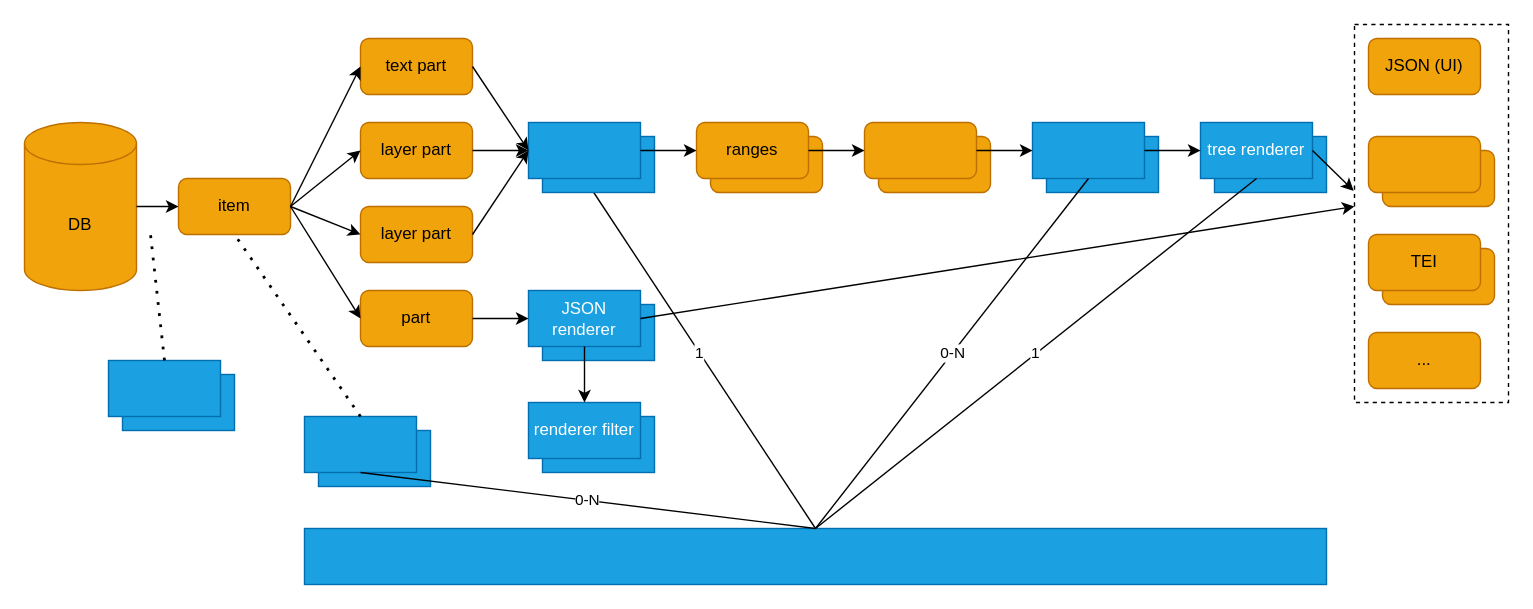
The diagram is 1533 pixels wide and 609 high, and some of its shapes have lost their labels. The shapes that lost their labels are listed below. From the top down, each one's centre as x and y in pixels, then its label:
At (x=583, y=149): "text part flattener".
At (x=919, y=149): "tree nodes".
At (x=1087, y=149): "tree filters".
At (x=1423, y=163): "HTML".
At (x=163, y=387): "item ID collector".
At (x=359, y=443): "context suppliers".
At (x=814, y=555): "item composer".
